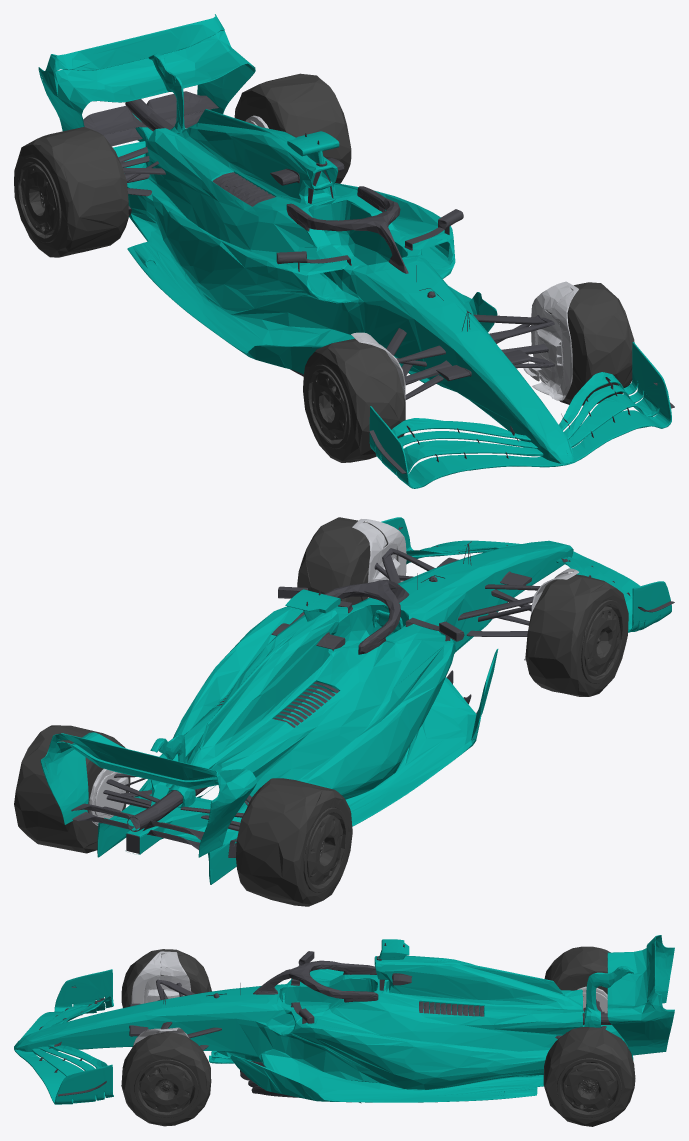
The model's file is f1car.glb.
3 renders of one model, top to bottom at view 1: azimuth 30°, elevation 25°; view 2: azimuth 150°, elevation 25°; view 3: azimuth 270°, elevation 25°, orthographic. The views are drawn at different scales.
Parts seen in each view (by area): view 1: body_paint, body_carbon, wheel_RR_tyre, wheel_FR_tyre, wheel_FL_tyre, wheel_RL_tyre, wheel_FL_hub; view 2: body_paint, wheel_RR_tyre, body_carbon, wheel_FR_tyre, wheel_RL_tyre, wheel_FL_tyre, wheel_FL_hub, wheel_RL_hub; view 3: body_paint, wheel_RL_tyre, wheel_FL_tyre, body_carbon, wheel_RR_tyre, wheel_FR_hub, wheel_FR_tyre, wheel_RR_hub, wheel_FL_hub.
Part boxes in pixels (x1=…): body_paint: x1=38, y1=14, x2=671, y2=488; body_carbon: x1=83, y1=91, x2=674, y2=473; wheel_RR_tyre: x1=14, y1=127, x2=128, y2=257; wheel_FR_tyre: x1=303, y1=338, x2=405, y2=462; wheel_FL_tyre: x1=547, y1=282, x2=634, y2=405; wheel_RL_tyre: x1=234, y1=73, x2=351, y2=183; wheel_FL_hub: x1=523, y1=281, x2=578, y2=400; body_paint: x1=40, y1=517, x2=671, y2=884; wheel_RR_tyre: x1=236, y1=778, x2=352, y2=906; body_carbon: x1=71, y1=527, x2=674, y2=857; wheel_FR_tyre: x1=525, y1=574, x2=628, y2=696; wheel_RL_tyre: x1=14, y1=725, x2=130, y2=853; wheel_FL_tyre: x1=297, y1=517, x2=397, y2=606; wheel_FL_hub: x1=352, y1=519, x2=406, y2=598; wheel_RL_hub: x1=89, y1=768, x2=128, y2=825; body_paint: x1=14, y1=935, x2=674, y2=1104; wheel_RL_tyre: x1=543, y1=1027, x2=635, y2=1126; wheel_FL_tyre: x1=121, y1=1032, x2=211, y2=1126; body_carbon: x1=39, y1=943, x2=611, y2=1103; wheel_RR_tyre: x1=544, y1=946, x2=610, y2=994; wheel_FR_hub: x1=131, y1=951, x2=191, y2=1003; wheel_FR_tyre: x1=121, y1=949, x2=211, y2=1007; wheel_RR_hub: x1=577, y1=986, x2=607, y2=1013; wheel_FL_hub: x1=133, y1=1027, x2=188, y2=1045.
Bounding box in the file's own units: 2.12 × 1.26 × 5.6.
